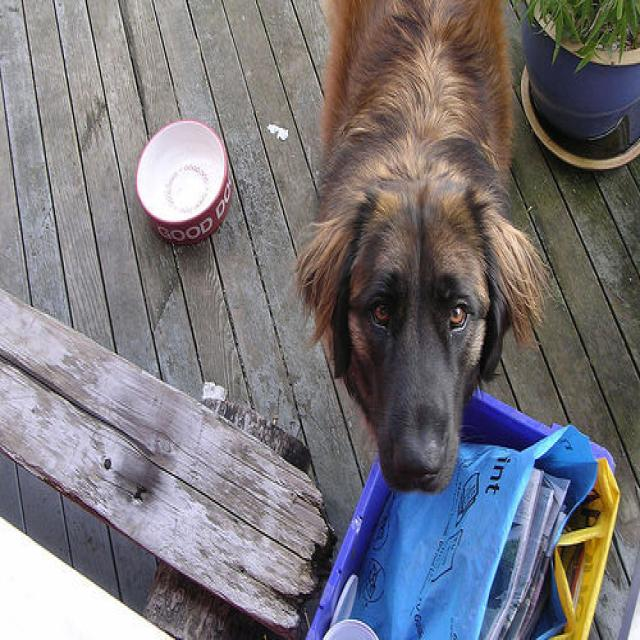dog-leonberger: (275, 2, 554, 509)
